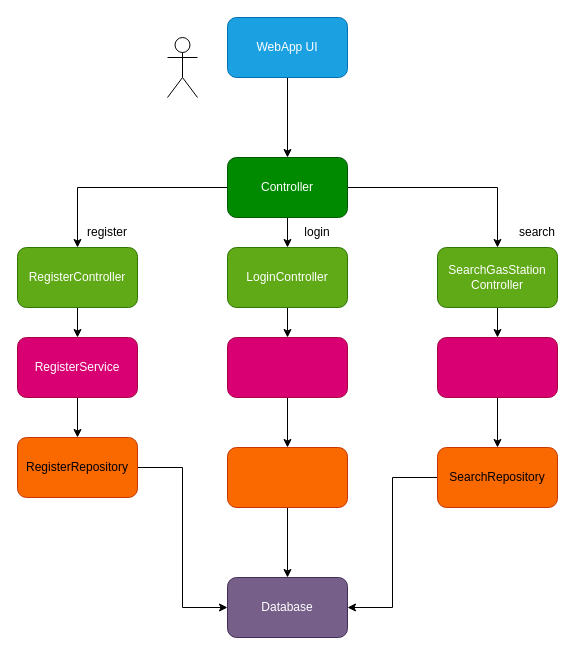
Some shapes in this 585 by 655 pixel diagram are drawn without their labels. Here are the shapes that lost their labels. From the top down, the box of each, then its label:
(166, 36, 198, 98): User
(226, 336, 348, 398): LoginService
(436, 336, 558, 398): SearchService
(226, 446, 348, 508): LoginRepository
